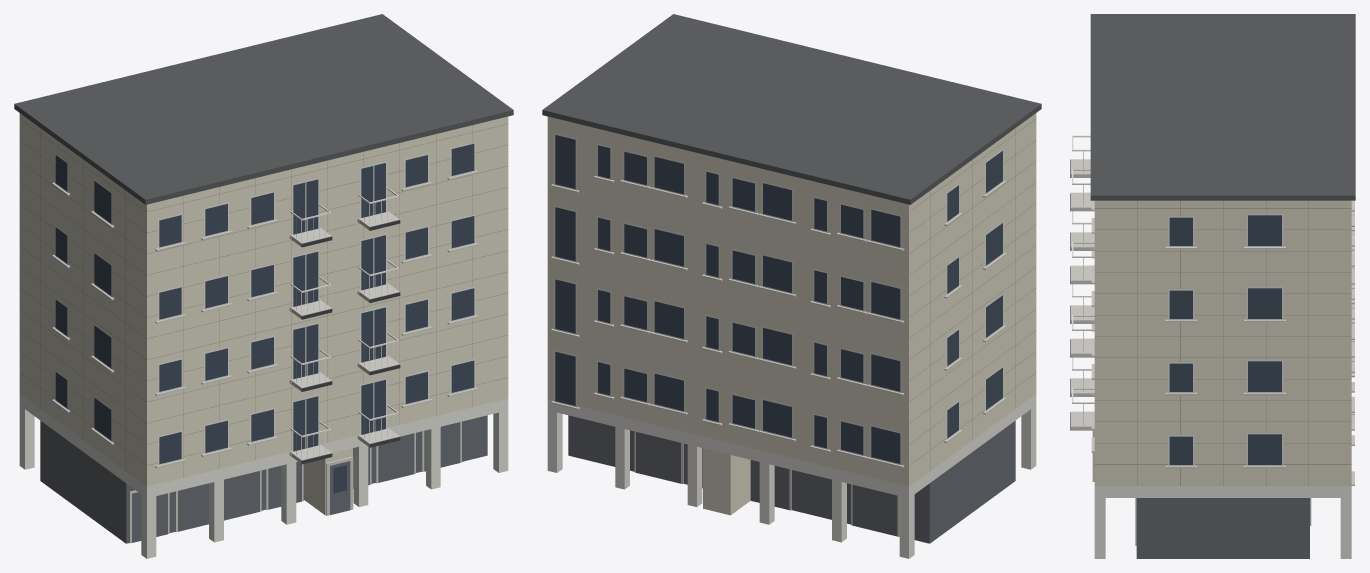
Rendered from nw-pilotis-centre-panel-flat__concrete-panel__5__flat__long__pilotis.glb.
3 renders of one model, left to right at view 1: azimuth 30°, elevation 25°; view 2: azimuth 150°, elevation 25°; view 3: azimuth 270°, elevation 25°, orthographic.
Visible parts, largest first — view 1: nw-pilotis-centre-panel-flat__concrete-panel__5__flat__long_; view 2: nw-pilotis-centre-panel-flat__concrete-panel__5__flat__long_; view 3: nw-pilotis-centre-panel-flat__concrete-panel__5__flat__long_.
Part boxes in pixels (box(x1,y1,x2,y2)): nw-pilotis-centre-panel-flat__concrete-panel__5__flat__long_: box(14, 14, 513, 558); nw-pilotis-centre-panel-flat__concrete-panel__5__flat__long_: box(542, 14, 1041, 558); nw-pilotis-centre-panel-flat__concrete-panel__5__flat__long_: box(1070, 14, 1355, 558).
Bounding box in the file's own units: 16.4 × 15.39 × 10.9.
